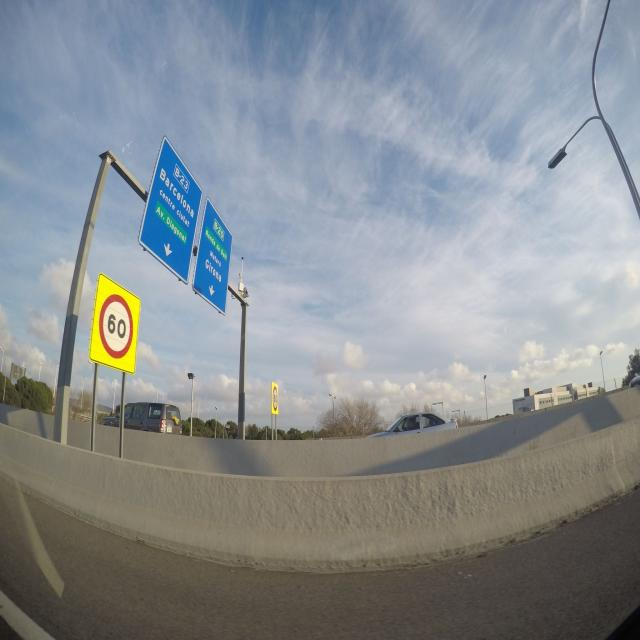car: (368, 412, 458, 438)
